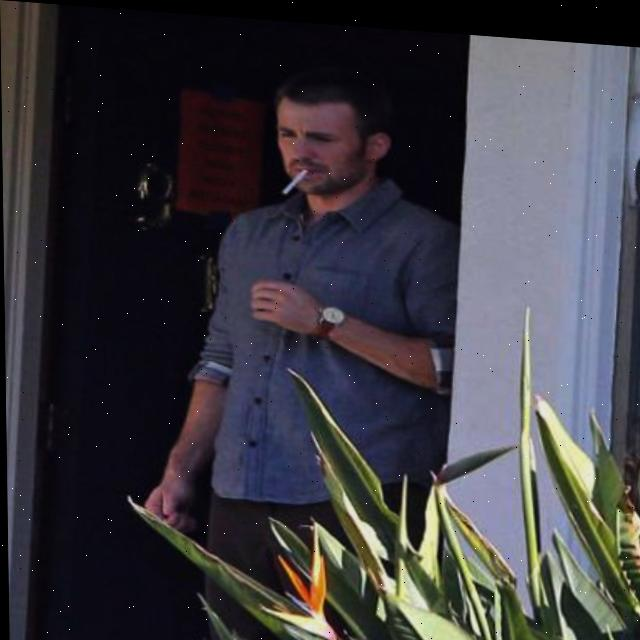cigarette: (280, 159, 312, 194)
